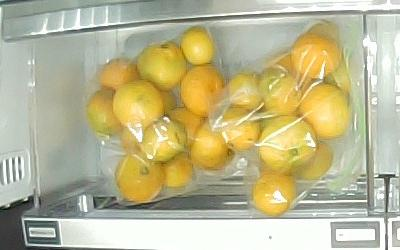tangerine_vinyl: (258, 116, 319, 175), (298, 82, 350, 139), (114, 153, 163, 203), (139, 42, 188, 91), (112, 83, 164, 127), (292, 33, 342, 78), (181, 65, 225, 116), (187, 130, 236, 171), (260, 66, 299, 116), (165, 105, 209, 149), (142, 117, 185, 162), (253, 172, 296, 216), (222, 107, 261, 152), (224, 73, 266, 109), (89, 90, 123, 134), (297, 140, 336, 178), (99, 58, 140, 91), (158, 154, 194, 190), (181, 28, 215, 64)
